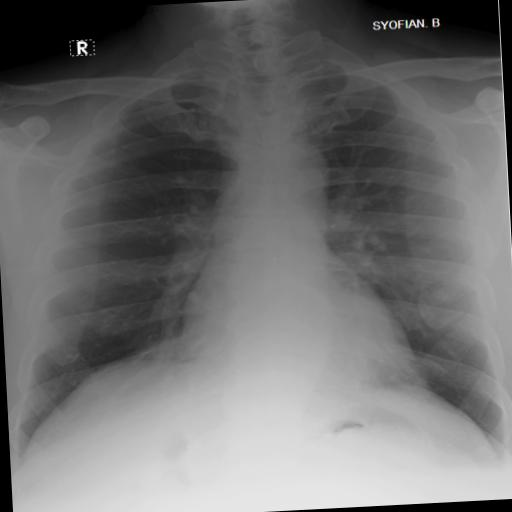kardiomegali: (0, 31, 512, 489)
